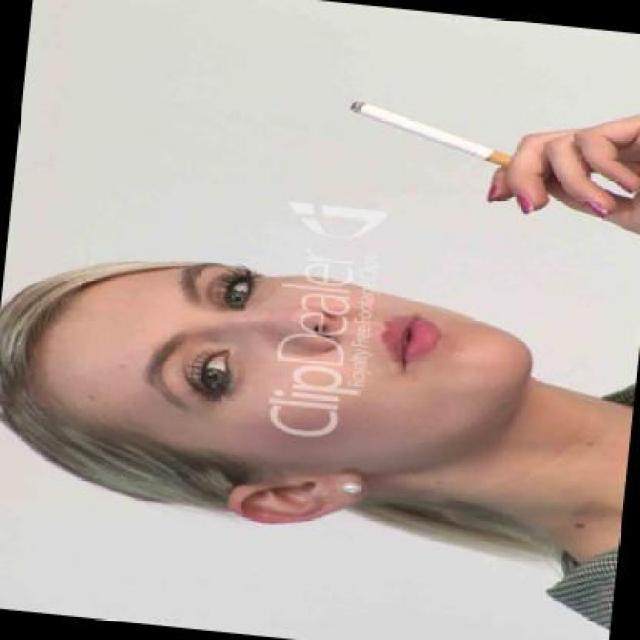cigarette: (341, 94, 524, 168)
